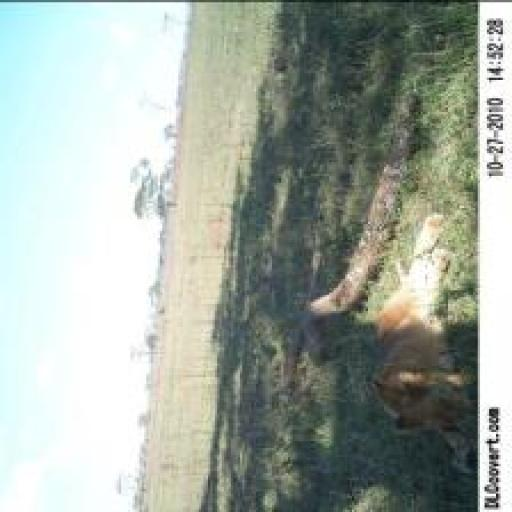lion: (366, 197, 474, 489)
